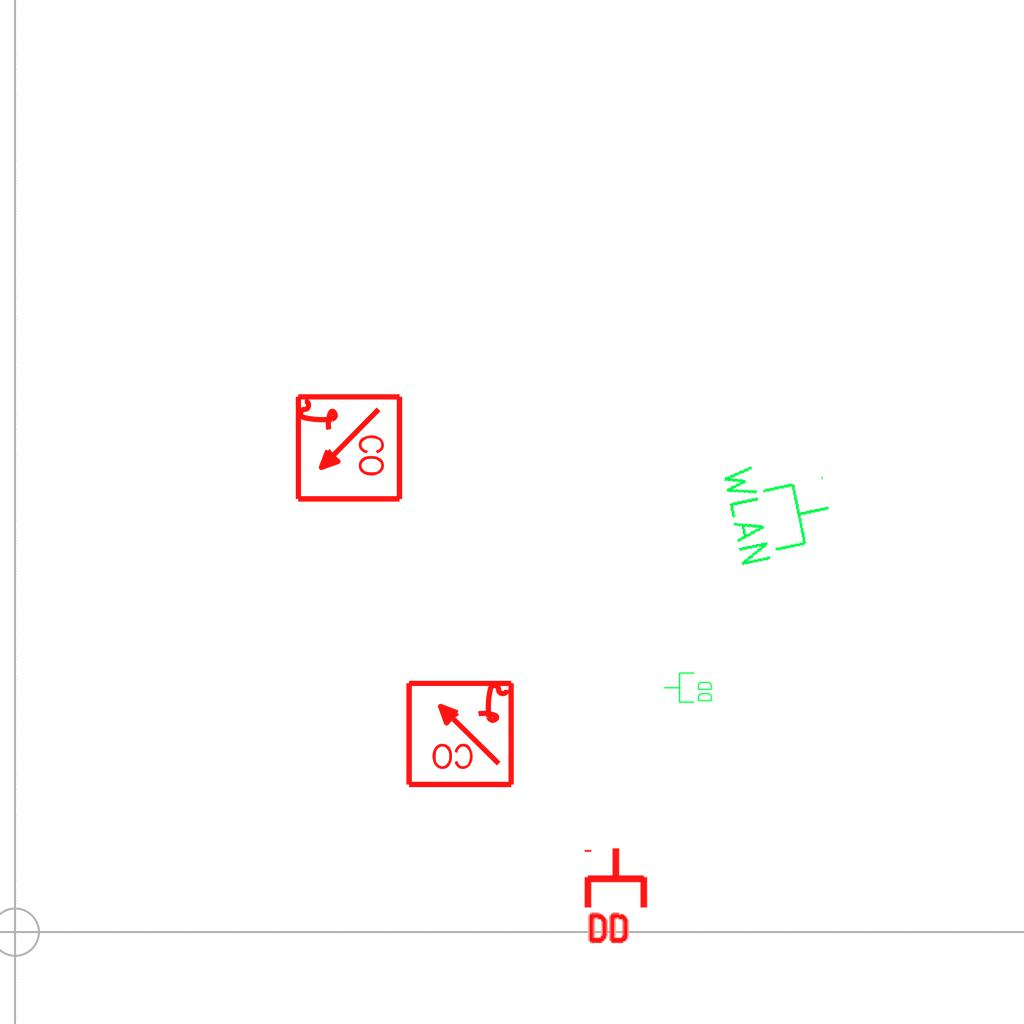Datenanschluss_zweifach: (583, 845, 652, 948), (663, 671, 714, 705)
ROA_Rauchmelder_optisch_mit_Signalgeber_(Sockelsirene): (403, 676, 516, 789), (291, 392, 404, 505)
WLAN: (717, 446, 841, 571)
